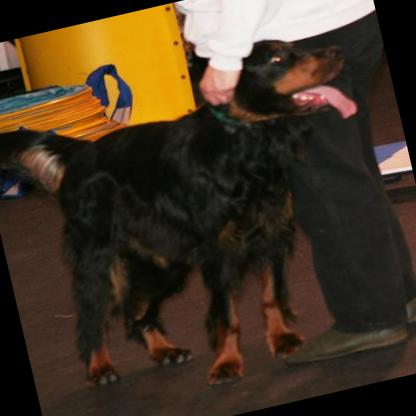Gordon_setter: (0, 18, 413, 416)
